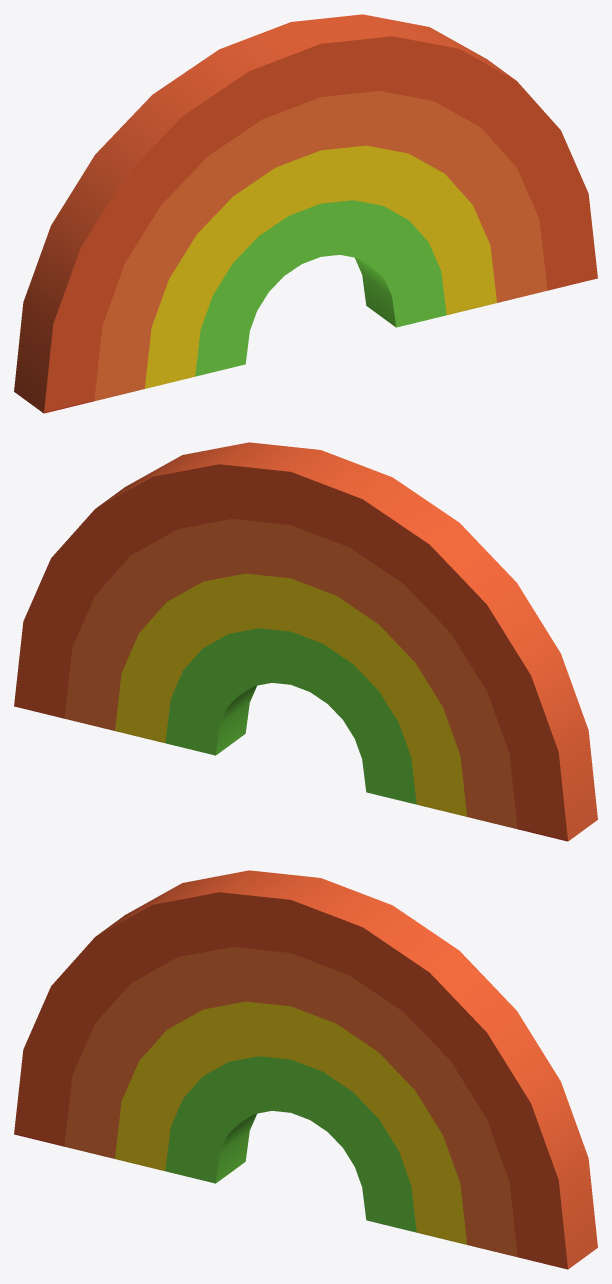
Rendered from ENV2010113.fbx.
The picture shows the model from 3 angles, top to bottom: view 1: azimuth 30°, elevation 25°; view 2: azimuth 150°, elevation 25°; view 3: azimuth 330°, elevation 25°; orthographic projection.
Parts seen in each view (by area): view 1: smENV2010113; view 2: smENV2010113; view 3: smENV2010113.
Part boxes in pixels (box(x1,y1,x2,y2)): smENV2010113: box(14, 14, 597, 413); smENV2010113: box(14, 442, 597, 841); smENV2010113: box(14, 870, 597, 1269).
Bounding box in the file's own units: 53.7 × 27.98 × 5.02.
1 material, 1 textured.
